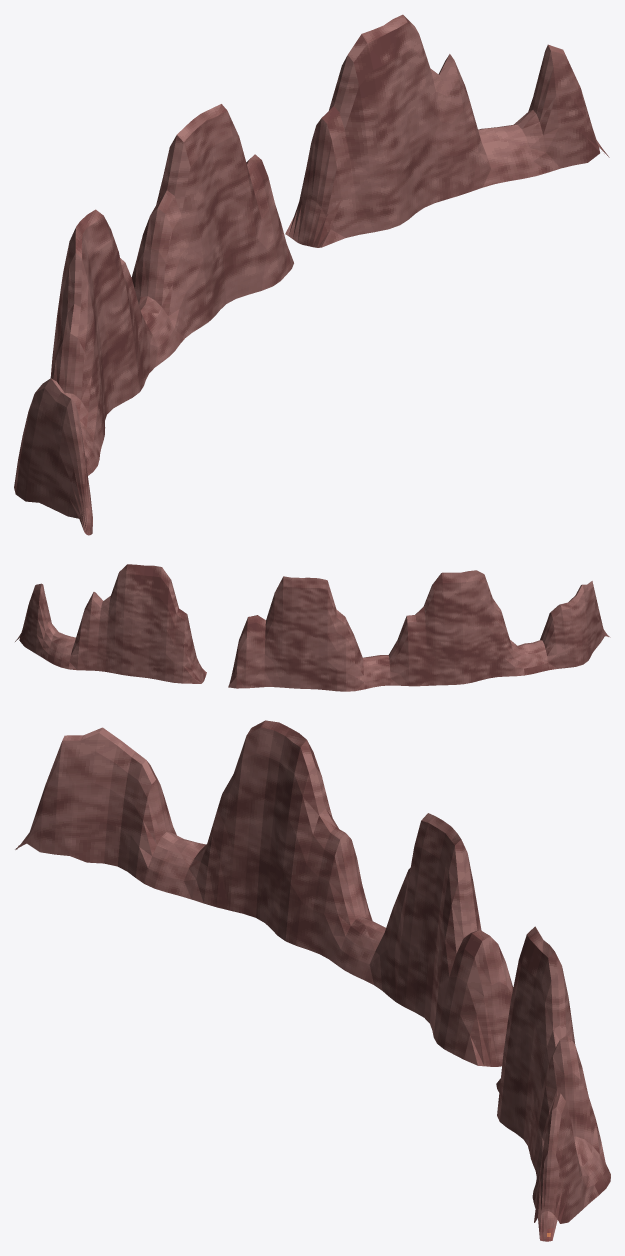
Rendered from map_base_cover_s4.glb.
3 renders of one model, top to bottom at view 1: azimuth 30°, elevation 25°; view 2: azimuth 150°, elevation 25°; view 3: azimuth 270°, elevation 25°, orthographic. The views are drawn at different scales.
Parts seen in each view (by area): view 1: MapBaseCoverS4Rock; view 2: MapBaseCoverS4Rock; view 3: MapBaseCoverS4Rock.
Part boxes in pixels (left/top/right/bottom): MapBaseCoverS4Rock: left=14, top=14, right=609, bottom=535; MapBaseCoverS4Rock: left=15, top=564, right=610, bottom=691; MapBaseCoverS4Rock: left=15, top=720, right=610, bottom=1241.
Size of what is drawn, in the model's own units: 43.03 by 9.83 by 27.7.
Materials: 2 (2 with a texture image).
